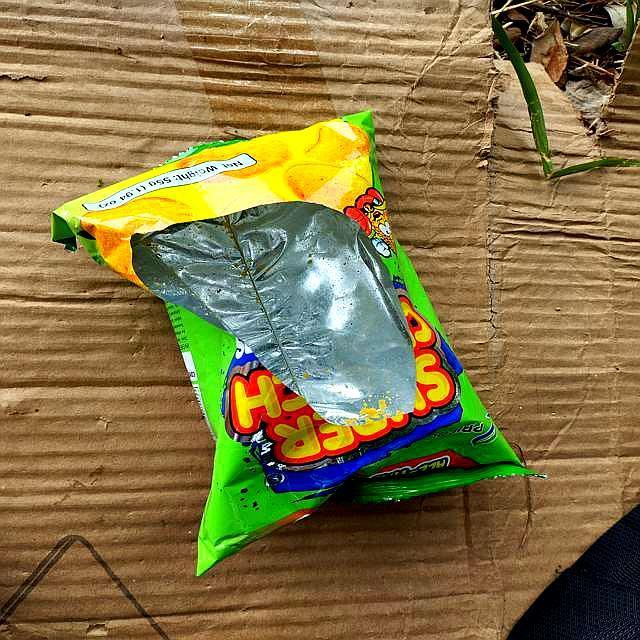Non-biodegradable: (50, 109, 545, 577)
